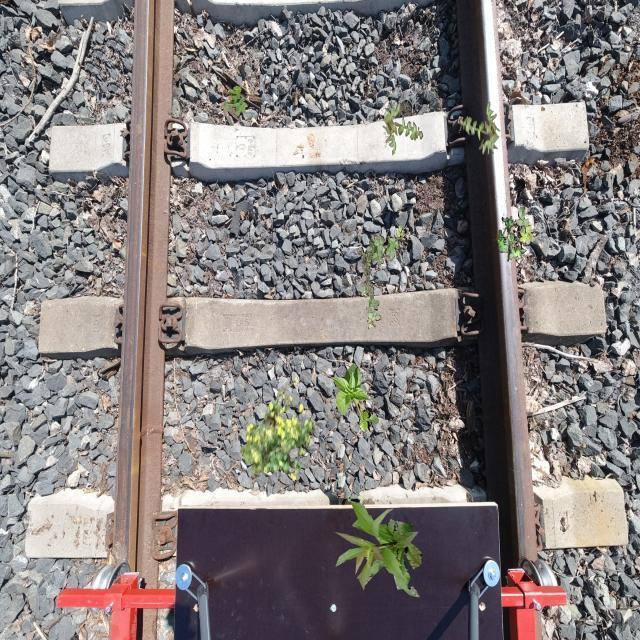Plant: (334, 500, 422, 598), (240, 377, 315, 482), (357, 226, 406, 329), (332, 363, 380, 434), (382, 102, 424, 156), (459, 101, 501, 155), (497, 207, 534, 262), (224, 85, 248, 116)
